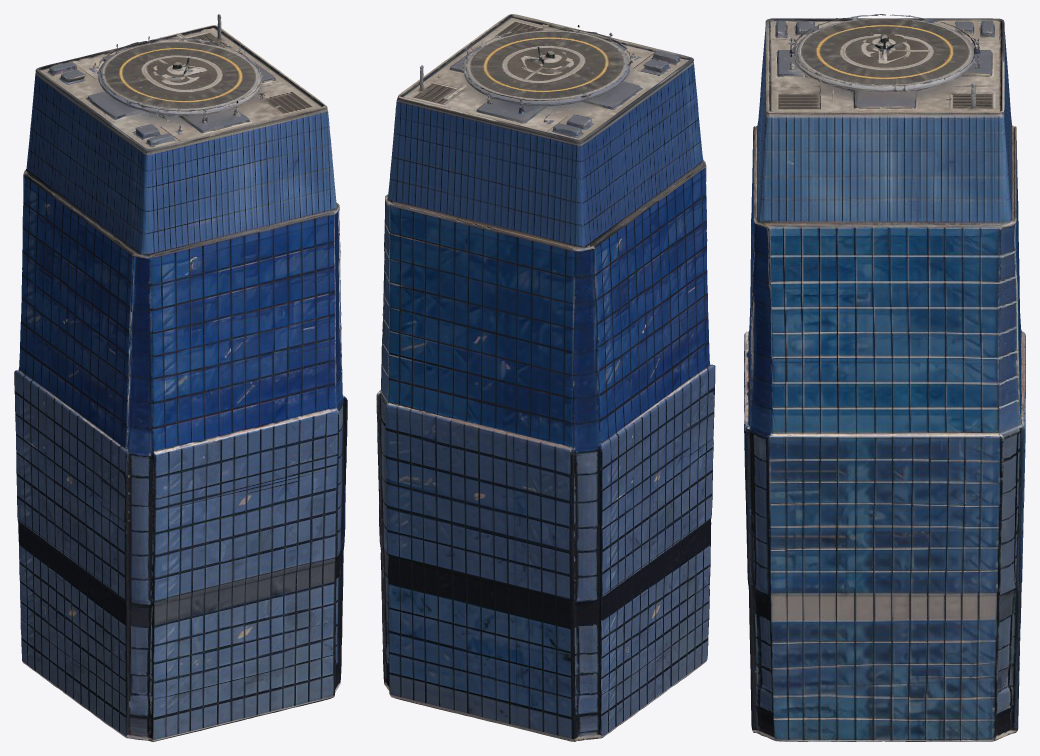
The model's file is skyscraper.glb.
The picture shows the model from 3 angles, left to right: view 1: azimuth 30°, elevation 25°; view 2: azimuth 150°, elevation 25°; view 3: azimuth 270°, elevation 25°; orthographic projection. The views are drawn at different scales.
Visible parts, largest first — view 1: world; view 2: world; view 3: world.
Part boxes in pixels (x1,y1,x2,y2): world: (14, 14, 347, 741); world: (376, 14, 715, 741); world: (744, 14, 1025, 741).
Size of the model in its own units: 0.7524 by 1.99 by 0.7815.
Materials: 1 (1 with a texture image).
